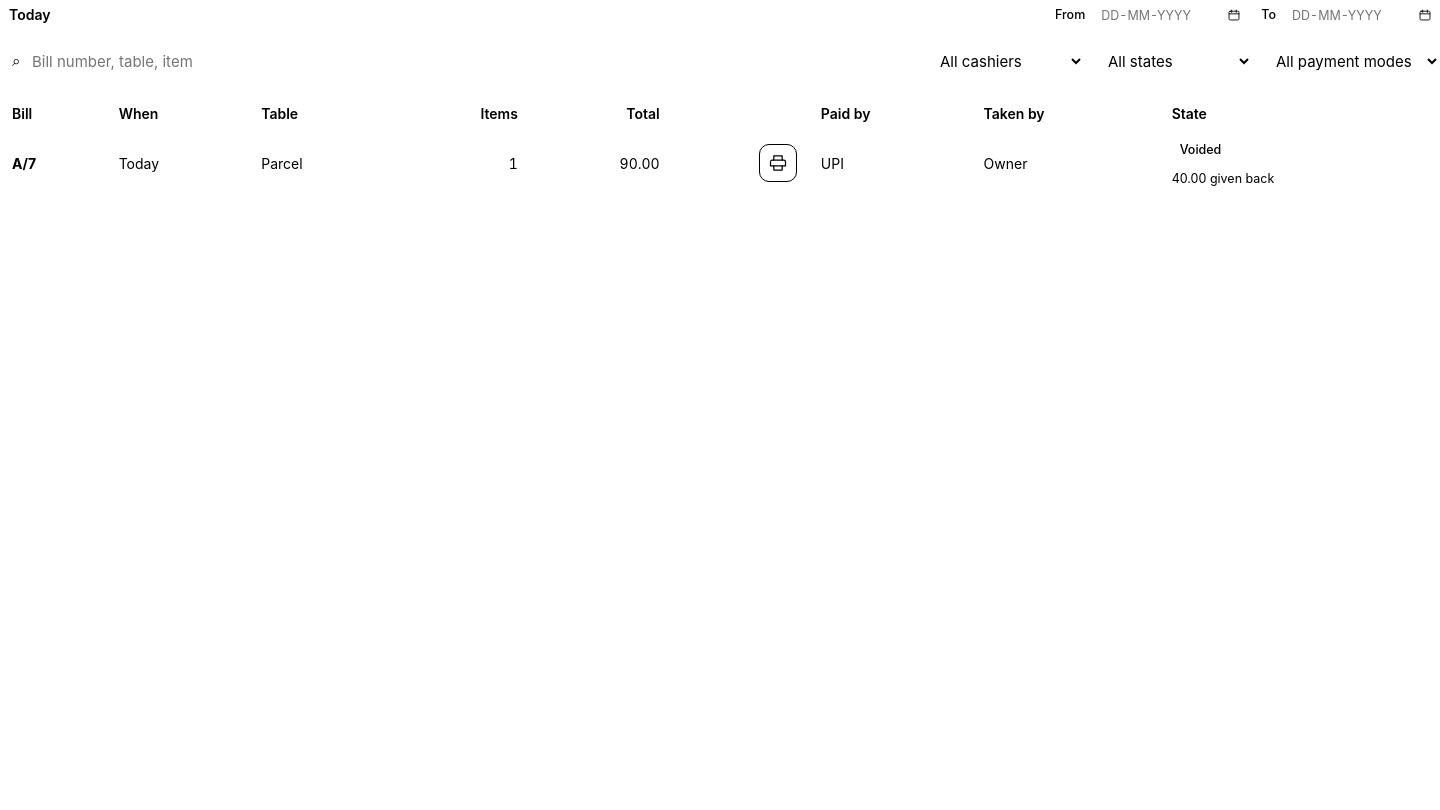
Test case: hides Return money when the original payment has already been fully refunded
Click the text "A/7" at (24, 163), box [12, 155, 36, 172]
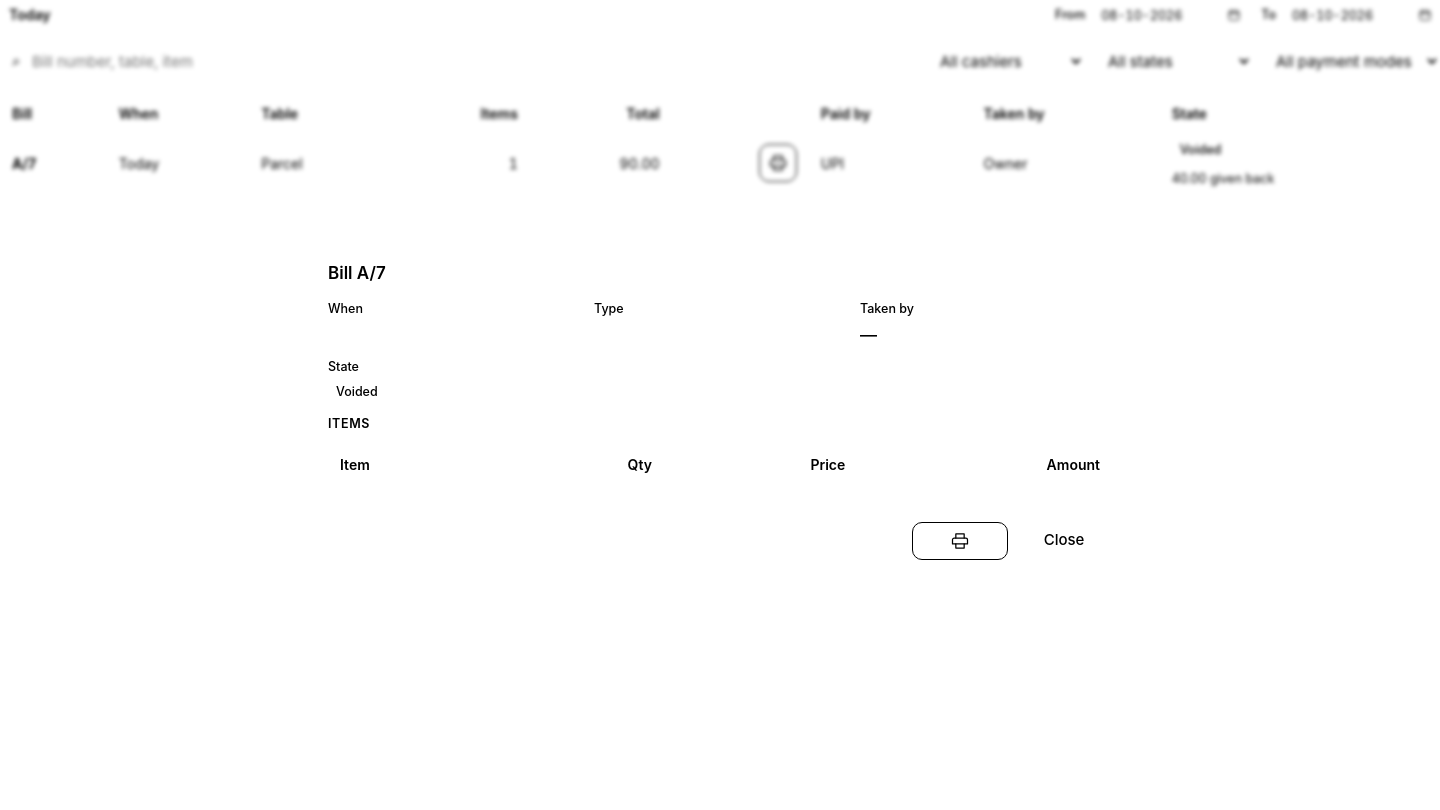
expect the dialog "Bill A/7" is shown: met, box [304, 238, 1136, 572]
